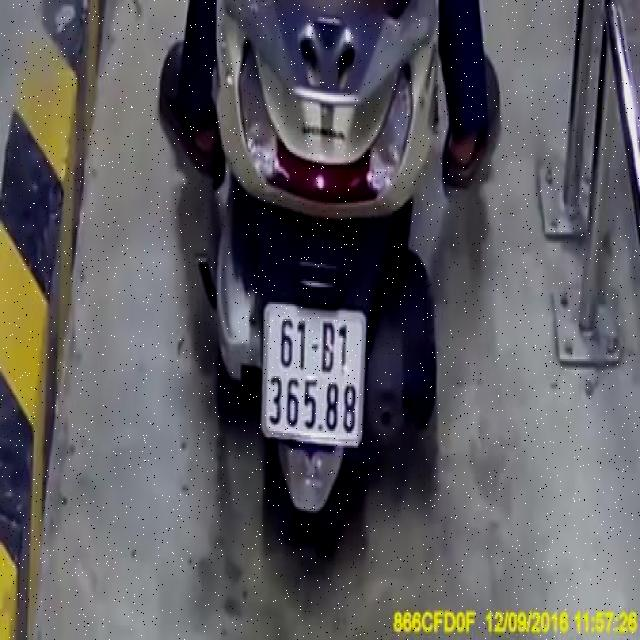1: (337, 319, 350, 376)
3: (268, 371, 282, 428)
5: (303, 375, 318, 431)
6: (277, 314, 295, 366), (285, 372, 300, 426)
8: (324, 381, 339, 433), (342, 383, 356, 432)
B: (319, 316, 337, 372), (295, 318, 309, 374)
